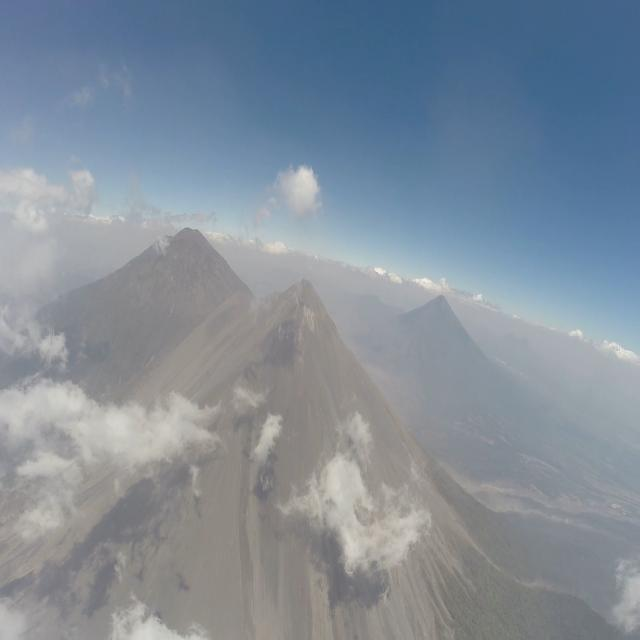Summit: (264, 274, 344, 338)
